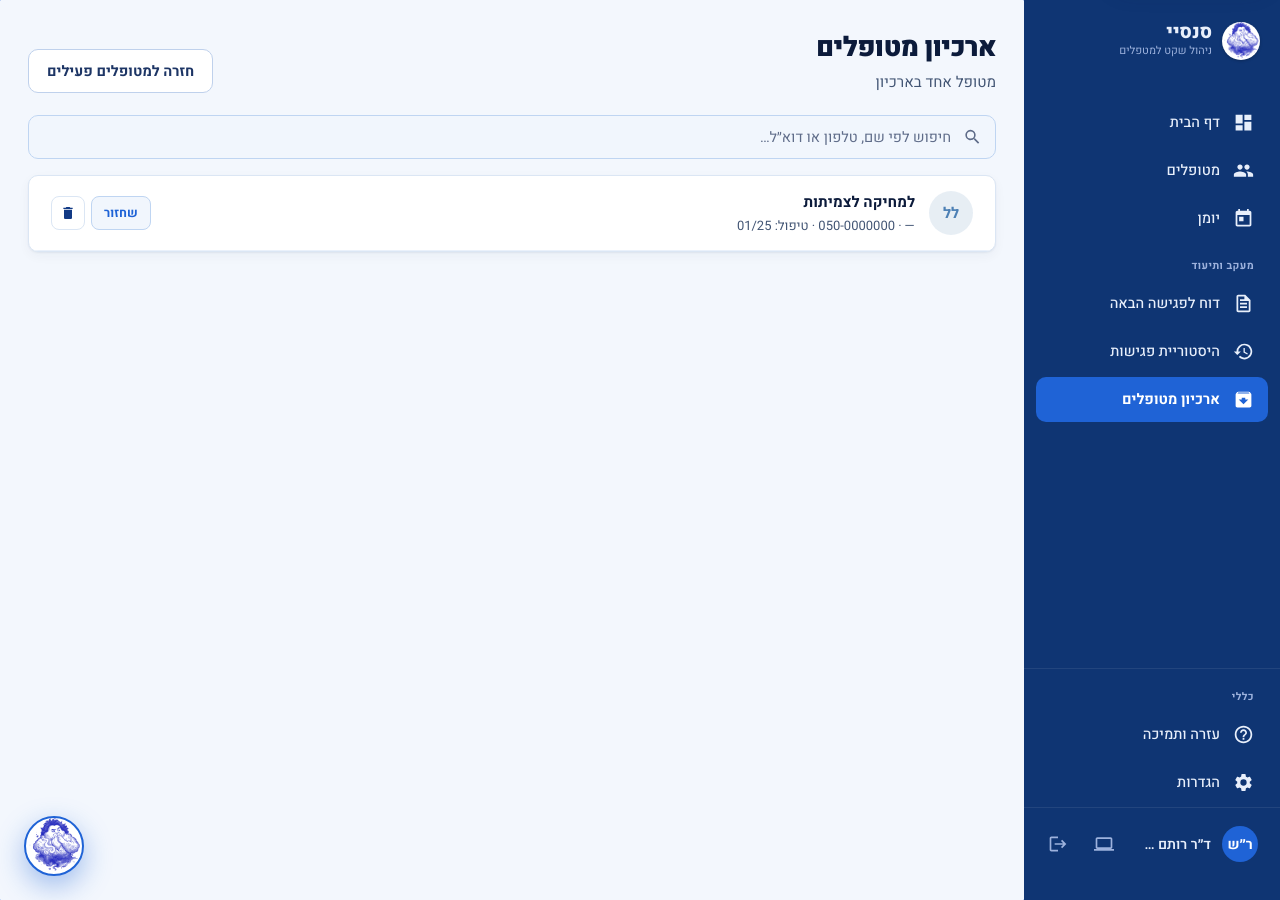
Test: patient archive page › permanently deletes an archived patient after confirmation
Step 1. Click the button named "מחיקת מטופל לצמיתות" → (68, 213), box x1=51 y1=196 x2=85 y2=230
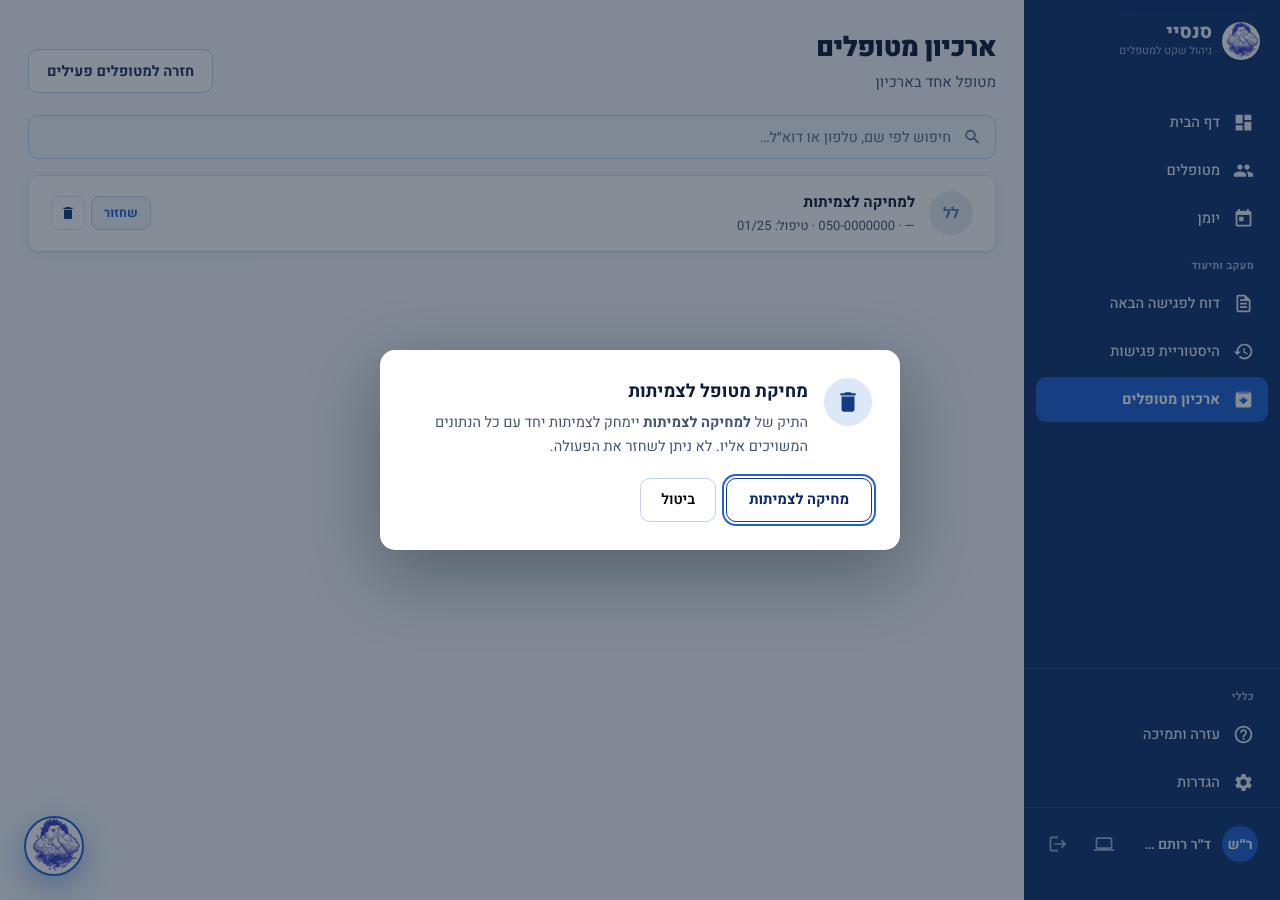
Result: the dialog shows "מחיקת מטופל לצמיתות" at x1=628 y1=378 x2=808 y2=405
Step 2. Click the button "מחיקה לצמיתות" → (799, 500), box x1=726 y1=478 x2=872 y2=522
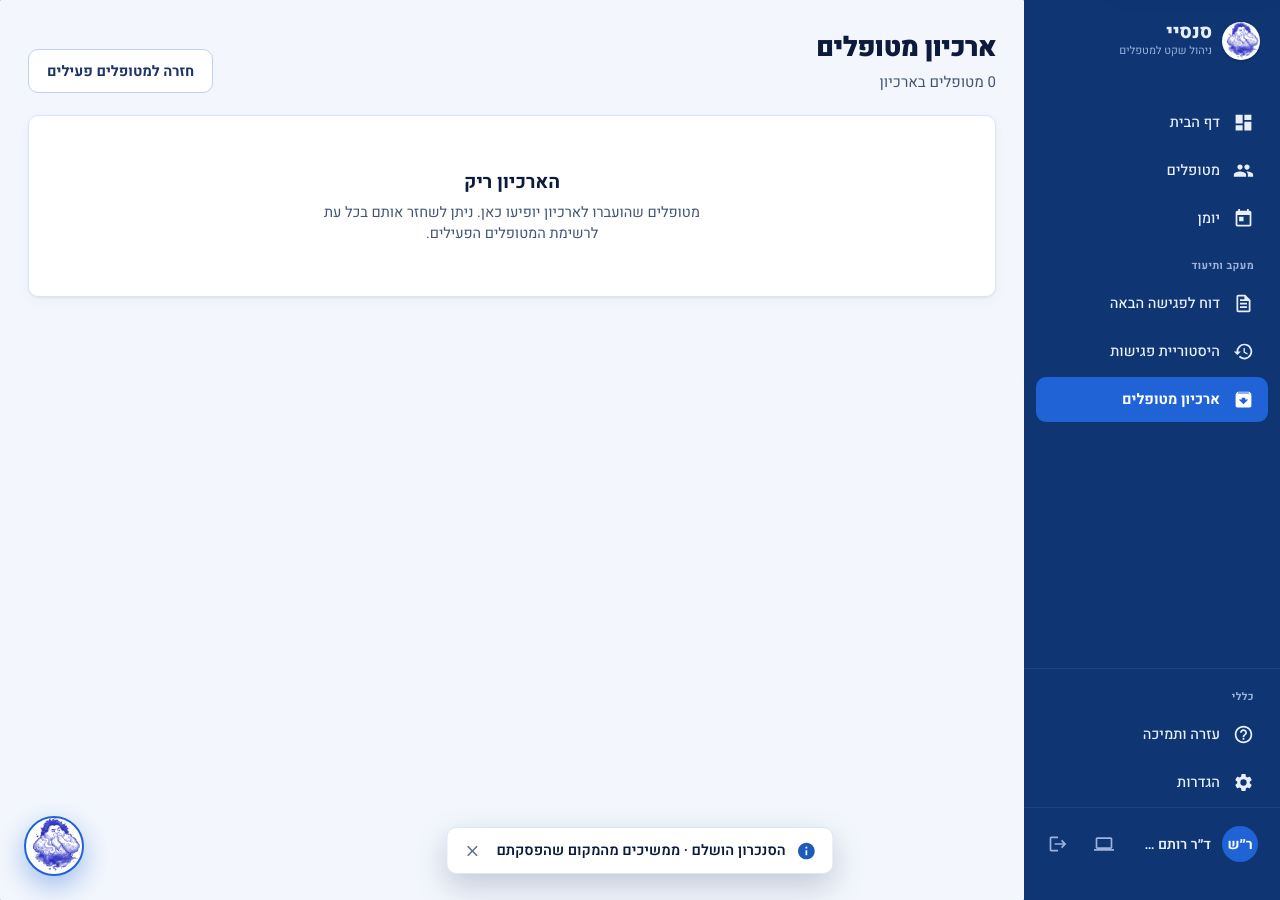
Result: the dialog is gone
Result: the text "למחיקה לצמיתות" is gone
